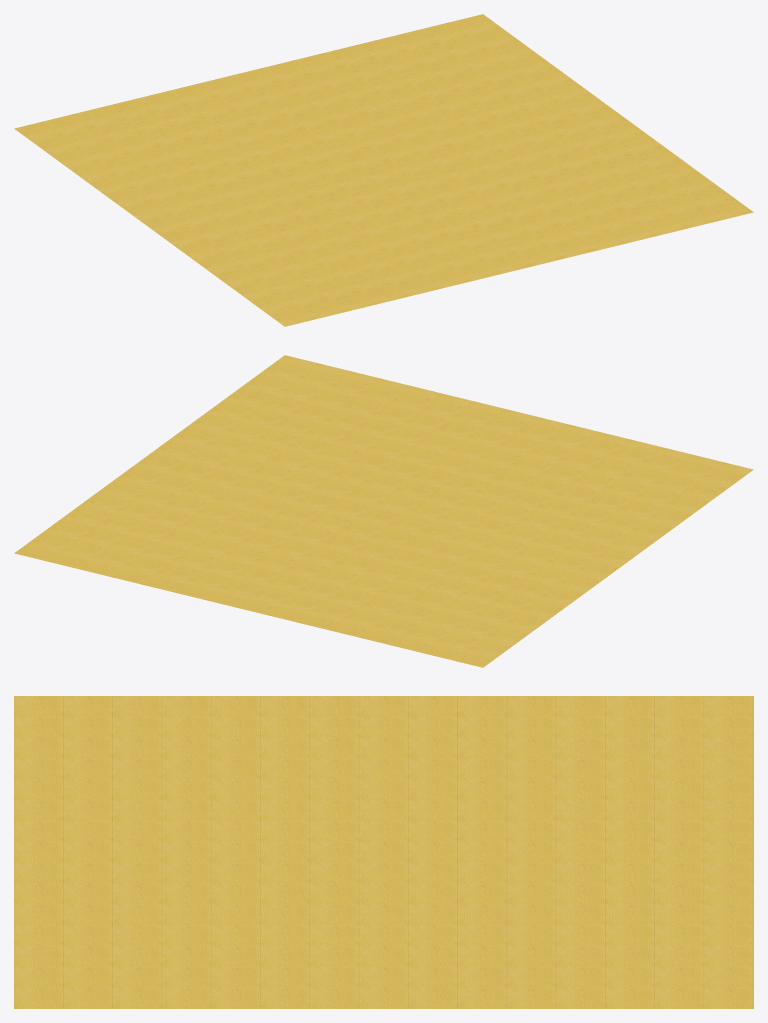
File: terrain.fbx
3 views of the same model, one above another, from view 1: azimuth 30°, elevation 25°; view 2: azimuth 150°, elevation 25°; view 3: azimuth 270°, elevation 25° (orthographic). The views are drawn at different scales.
Visible parts, largest first — view 1: Plane; view 2: Plane; view 3: Plane.
Part boxes in pixels (box(x1,y1,x2,y2)): Plane: box(14, 14, 753, 326); Plane: box(14, 355, 753, 667); Plane: box(14, 696, 753, 1008).
Bounding box in the file's own units: 10000 × 1.07e-11 × 10000.
